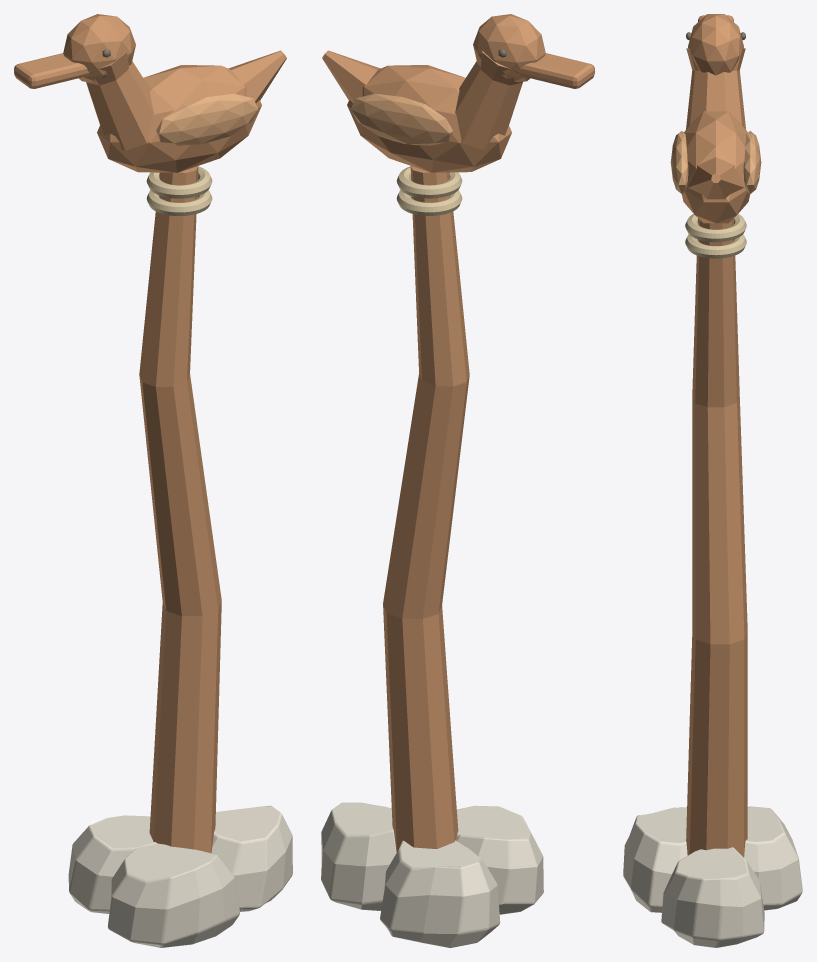
File: Test_CheonRef_Sotdae.fbx
The picture shows the model from 3 angles, left to right: view 1: azimuth 30°, elevation 25°; view 2: azimuth 150°, elevation 25°; view 3: azimuth 270°, elevation 25°; orthographic projection. The views are drawn at different scales.
Parts seen in each view (by area): view 1: TaperedSotdaePole, GroundingSotdaeRock.002, WoodenDuckBody, GroundingSotdaeRock, GroundingSotdaeRock.001, WoodenDuckNeck, CarvedWoodenWing, WoodenDuckHead, WideWoodenBill, UpliftedDuckTail, PoleRopeKnot, PoleRopeKnot.001; view 2: TaperedSotdaePole, GroundingSotdaeRock.001, WoodenDuckBody, GroundingSotdaeRock, GroundingSotdaeRock.002, WoodenDuckNeck, CarvedWoodenWing.001, WoodenDuckHead, WideWoodenBill, UpliftedDuckTail, PoleRopeKnot, PoleRopeKnot.001; view 3: TaperedSotdaePole, GroundingSotdaeRock, GroundingSotdaeRock.002, WoodenDuckBody, GroundingSotdaeRock.001, WoodenDuckNeck, WoodenDuckHead, UpliftedDuckTail, PoleRopeKnot, PoleRopeKnot.001, CarvedWoodenWing, CarvedWoodenWing.001.
Part boxes in pixels (x1,y1,x2,y2): TaperedSotdaePole: (139, 166, 221, 853); GroundingSotdaeRock.002: (107, 843, 239, 947); WoodenDuckBody: (97, 65, 261, 172); GroundingSotdaeRock: (211, 805, 292, 911); GroundingSotdaeRock.001: (68, 815, 157, 913); WoodenDuckNeck: (86, 50, 153, 150); CarvedWoodenWing: (156, 93, 258, 145); WoodenDuckHead: (63, 14, 135, 82); WideWoodenBill: (14, 53, 89, 88); UpliftedDuckTail: (228, 50, 286, 103); PoleRopeKnot: (146, 166, 212, 198); PoleRopeKnot.001: (146, 190, 212, 215); TaperedSotdaePole: (383, 166, 469, 852); GroundingSotdaeRock.001: (380, 840, 500, 947); WoodenDuckBody: (347, 65, 511, 172); GroundingSotdaeRock: (321, 802, 396, 910); GroundingSotdaeRock.002: (456, 805, 543, 914); WoodenDuckNeck: (455, 50, 522, 150); CarvedWoodenWing.001: (351, 93, 452, 145); WoodenDuckHead: (473, 14, 545, 82); WideWoodenBill: (519, 53, 594, 88); UpliftedDuckTail: (322, 50, 380, 103); PoleRopeKnot: (396, 166, 462, 198); PoleRopeKnot.001: (396, 190, 462, 215); TaperedSotdaePole: (686, 218, 747, 857); GroundingSotdaeRock: (661, 847, 764, 947); GroundingSotdaeRock.002: (623, 807, 687, 912); WoodenDuckBody: (682, 111, 750, 223); GroundingSotdaeRock.001: (744, 806, 802, 910); WoodenDuckNeck: (686, 48, 745, 129); WoodenDuckHead: (688, 14, 743, 75); UpliftedDuckTail: (688, 157, 743, 199); PoleRopeKnot: (685, 214, 746, 242); PoleRopeKnot.001: (685, 234, 746, 258); CarvedWoodenWing: (670, 131, 688, 193); CarvedWoodenWing.001: (743, 131, 761, 193).
Bounding box in the file's own units: 142 × 468 × 89.24.
